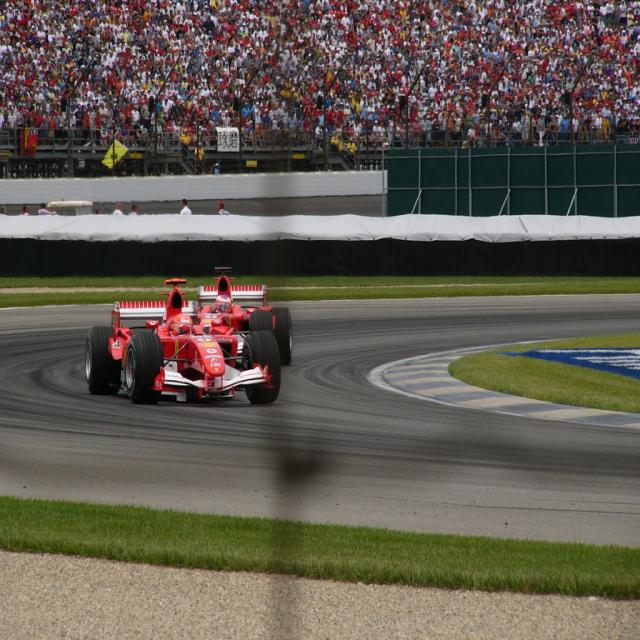car: (80, 276, 281, 411)
